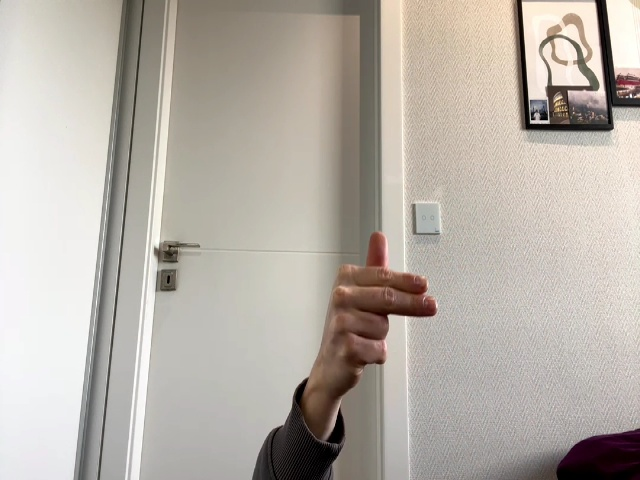N: (325, 231, 438, 392)
